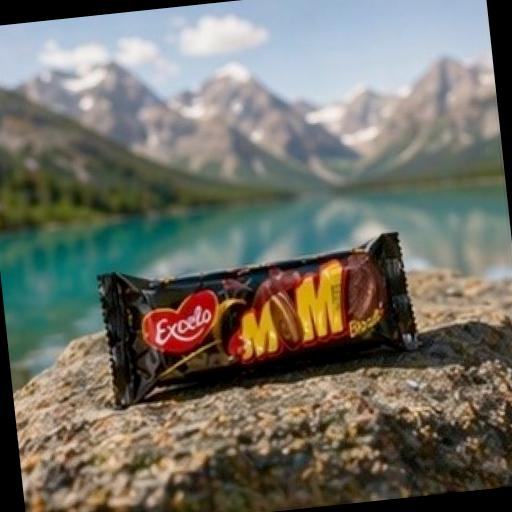MOMO: (52, 205, 468, 447)
